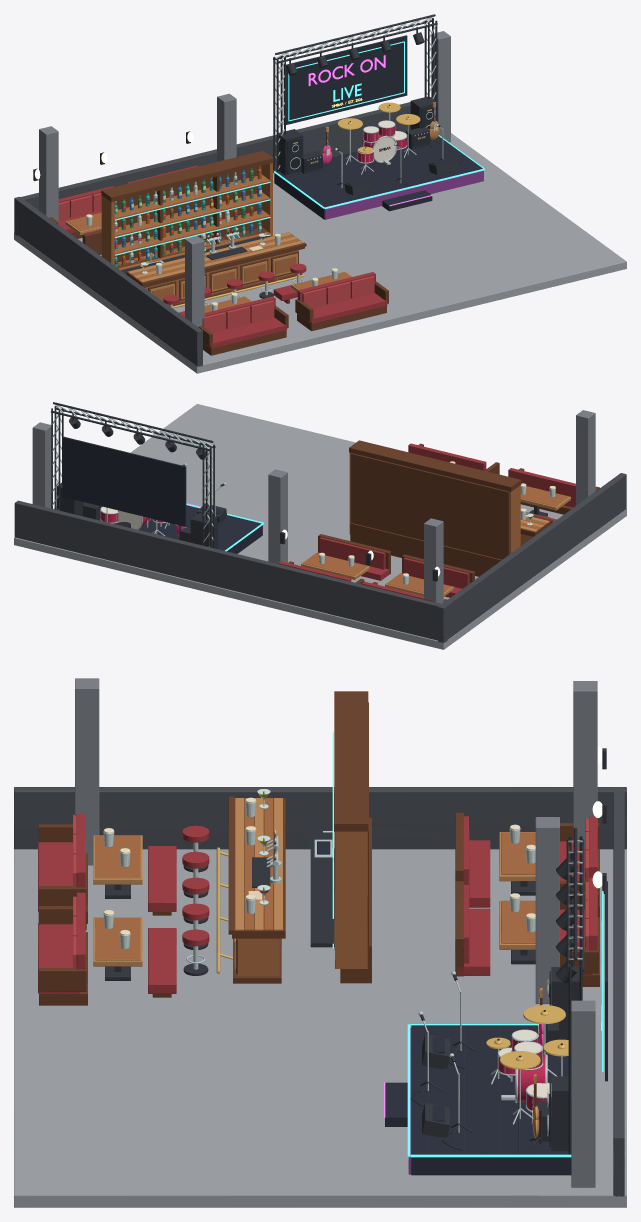
The model's file is SimBarVenue.fbx.
3 renders of one model, top to bottom at view 1: azimuth 30°, elevation 25°; view 2: azimuth 150°, elevation 25°; view 3: azimuth 270°, elevation 25°, orthographic. The views are drawn at different scales.
Parts seen in each view (by area): view 1: SimBar_Floor, SimBar_BackBar, SimBar_BrickWalls, SimBar_TrussAndNeon, SimBar_Stage, SimBar_BoothsAndTables, SimBar_BarCounter, SimBar_PlantsAndWallArt, SimBar_DrumKit, SimBar_MicrophonesAndInstruments; view 2: SimBar_BrickWalls, SimBar_Floor, SimBar_BackBar, SimBar_TrussAndNeon, SimBar_BoothsAndTables, SimBar_PlantsAndWallArt, SimBar_Stage, SimBar_DrumKit, SimBar_BarCounter, SimBar_MicrophonesAndInstruments; view 3: SimBar_Floor, SimBar_BoothsAndTables, SimBar_BrickWalls, SimBar_Stage, SimBar_BarCounter, SimBar_PlantsAndWallArt, SimBar_BackBar, SimBar_TrussAndNeon, SimBar_DrumKit, SimBar_MicrophonesAndInstruments.
Part boxes in pixels (<box>): SimBar_Floor: <box>14,133,626,373</box>; SimBar_BackBar: <box>101,150,273,270</box>; SimBar_BrickWalls: <box>14,97,431,366</box>; SimBar_TrussAndNeon: <box>273,14,437,172</box>; SimBar_Stage: <box>274,96,484,219</box>; SimBar_BoothsAndTables: <box>49,165,388,355</box>; SimBar_BarCounter: <box>121,228,306,308</box>; SimBar_PlantsAndWallArt: <box>33,31,450,326</box>; SimBar_DrumKit: <box>337,102,420,174</box>; SimBar_MicrophonesAndInstruments: <box>301,102,464,191</box>; SimBar_BrickWalls: <box>14,473,626,643</box>; SimBar_Floor: <box>14,404,626,649</box>; SimBar_BackBar: <box>349,440,521,576</box>; SimBar_TrussAndNeon: <box>51,402,215,548</box>; SimBar_BoothsAndTables: <box>278,443,599,602</box>; SimBar_PlantsAndWallArt: <box>32,410,595,603</box>; SimBar_Stage: <box>56,482,263,553</box>; SimBar_DrumKit: <box>100,506,176,536</box>; SimBar_BarCounter: <box>520,508,552,545</box>; SimBar_MicrophonesAndInstruments: <box>83,463,226,542</box>; SimBar_Floor: <box>14,849,626,1207</box>; SimBar_BoothsAndTables: <box>38,812,599,1005</box>; SimBar_BrickWalls: <box>14,787,626,1196</box>; SimBar_Stage: <box>384,967,579,1175</box>; SimBar_BarCounter: <box>182,789,334,983</box>; SimBar_PlantsAndWallArt: <box>75,678,606,1187</box>; SimBar_BackBar: <box>332,691,371,983</box>; SimBar_TrussAndNeon: <box>556,827,607,1154</box>; SimBar_DrumKit: <box>486,1005,568,1124</box>; SimBar_MicrophonesAndInstruments: <box>410,971,558,1150</box>.
Bounding box in the file's own units: 2100 × 643 × 1550.
